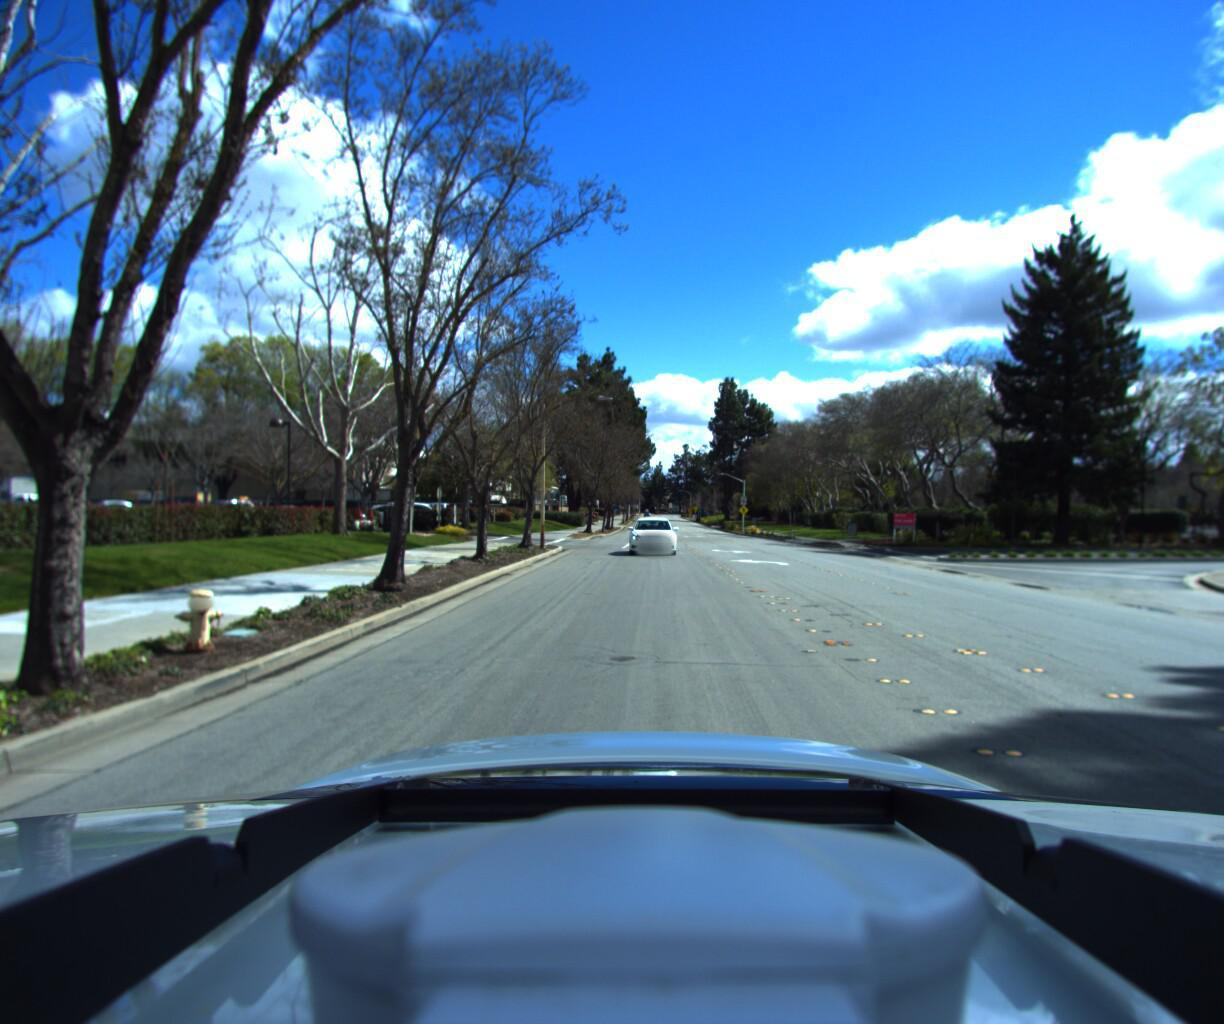car: (626, 524, 674, 566)
